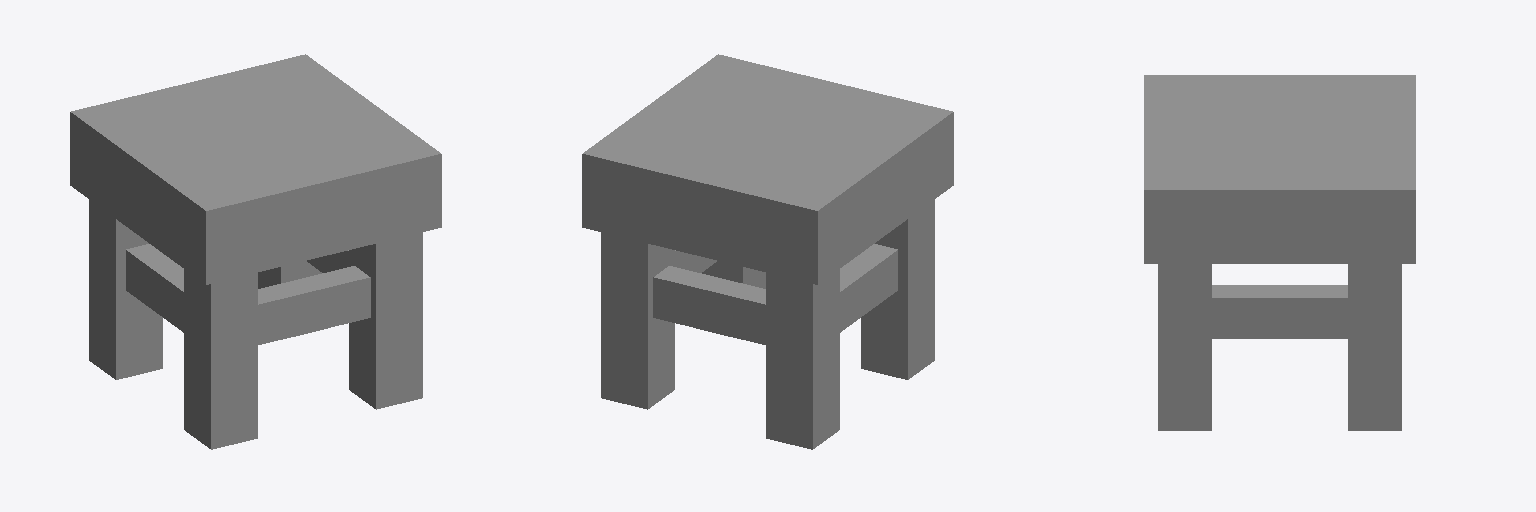
Rendered from workbench.obj.
3 views of the same model, side by side, from view 1: azimuth 30°, elevation 25°; view 2: azimuth 150°, elevation 25°; view 3: azimuth 270°, elevation 25° (orthographic).
Parts seen in each view (by area): view 1: Cube; view 2: Cube; view 3: Cube.
Part boxes in pixels (bbox=[...]): Cube: bbox=[70, 54, 441, 449]; Cube: bbox=[582, 54, 953, 449]; Cube: bbox=[1144, 75, 1415, 430].
Bounding box in the file's own units: 1 × 1 × 1.